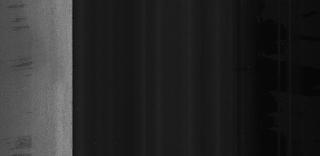water spot: (2, 2, 40, 152)
